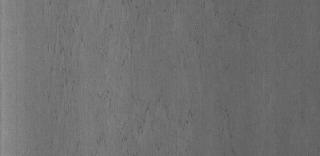silk spot: (66, 6, 192, 154)
